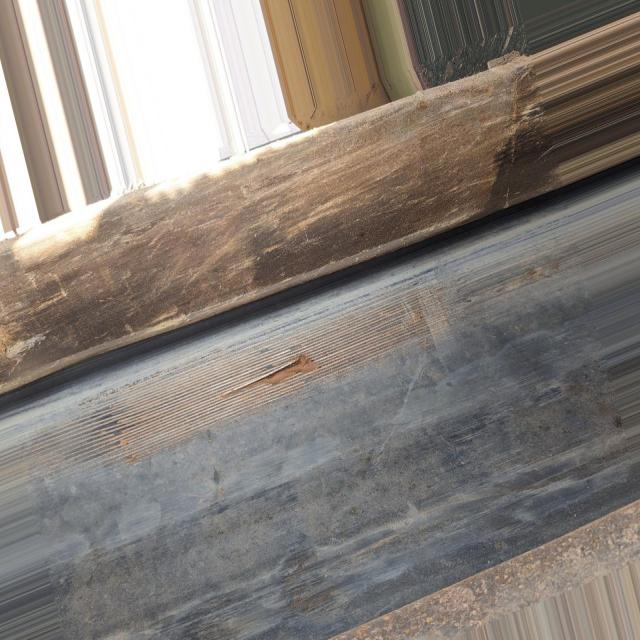impact damage: (87, 277, 433, 459)
